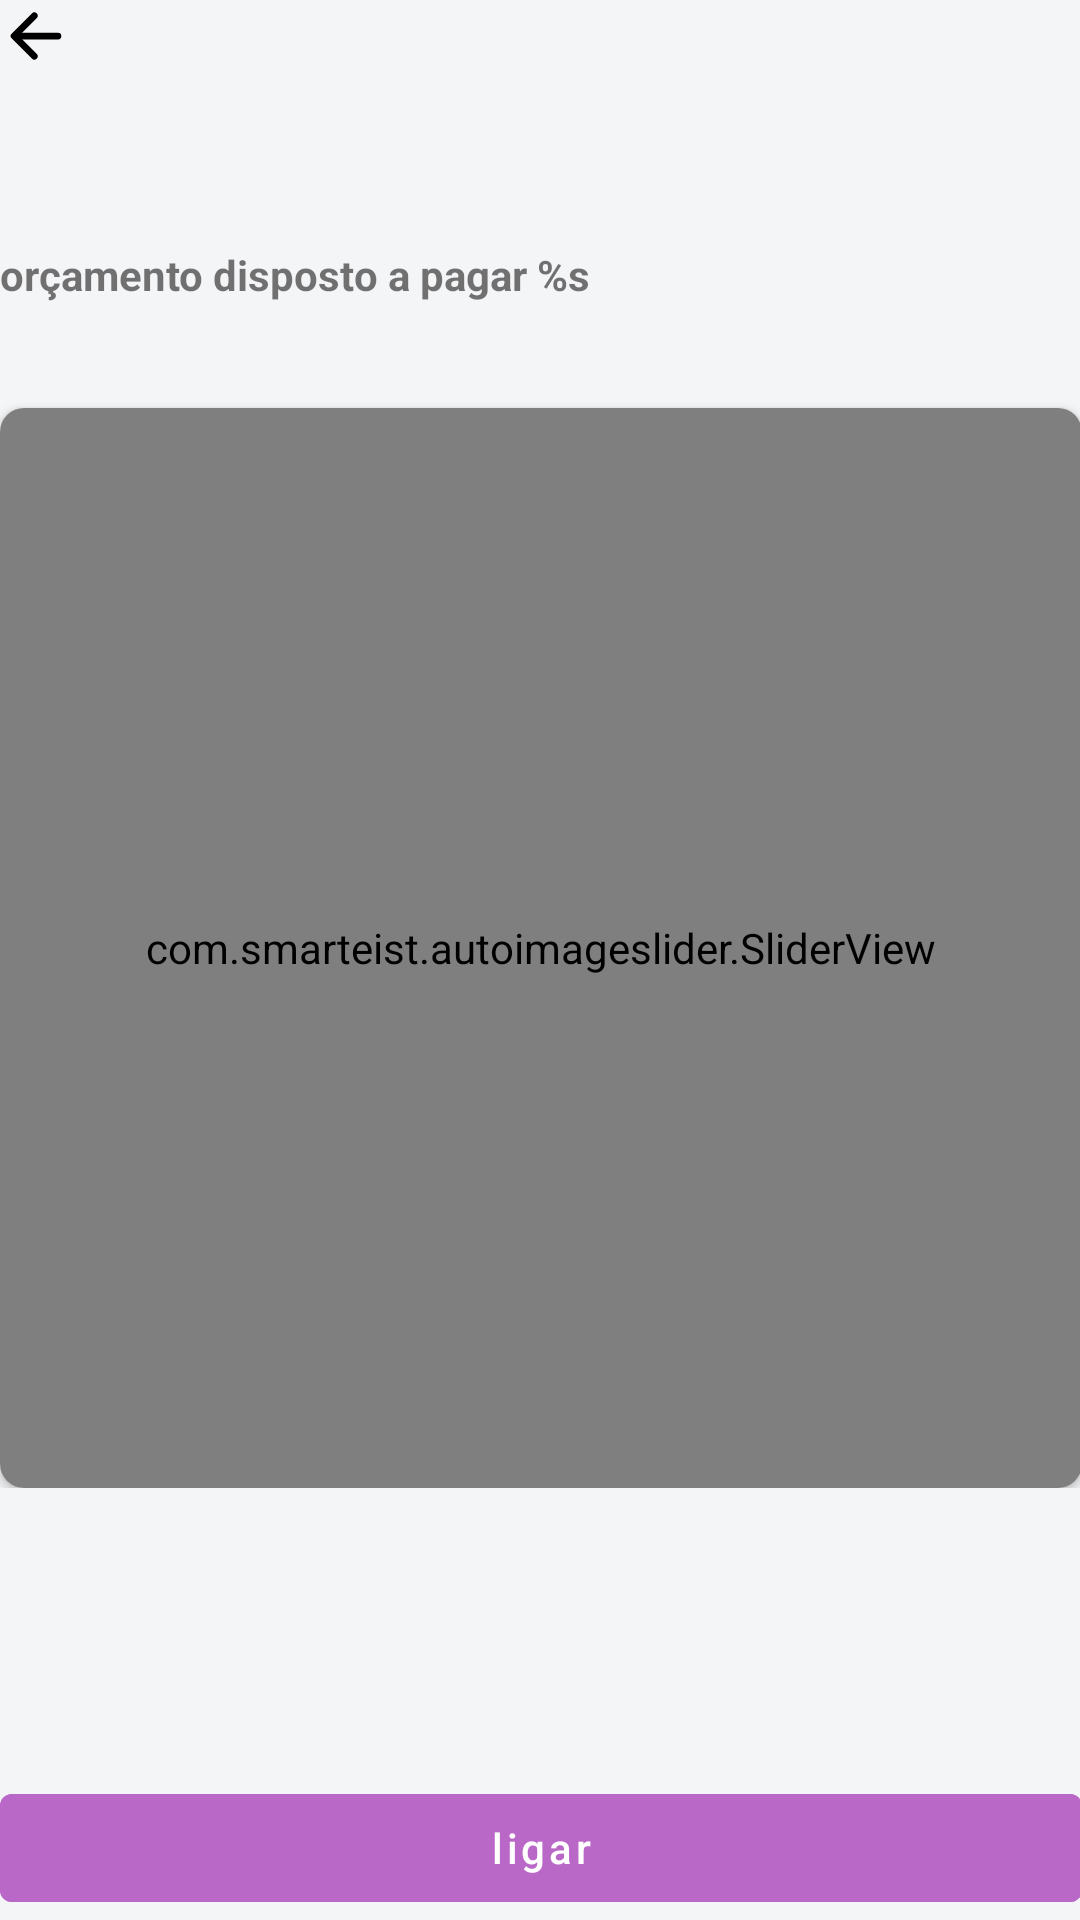

Named icons in this screenshot (1080*1920) and their centers, point (x, y):
arrow back: point (36, 36)
